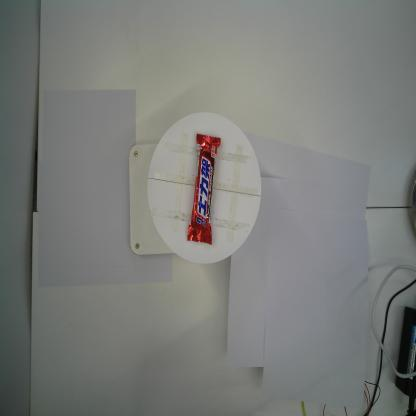Chocolate: (186, 133, 221, 245)
